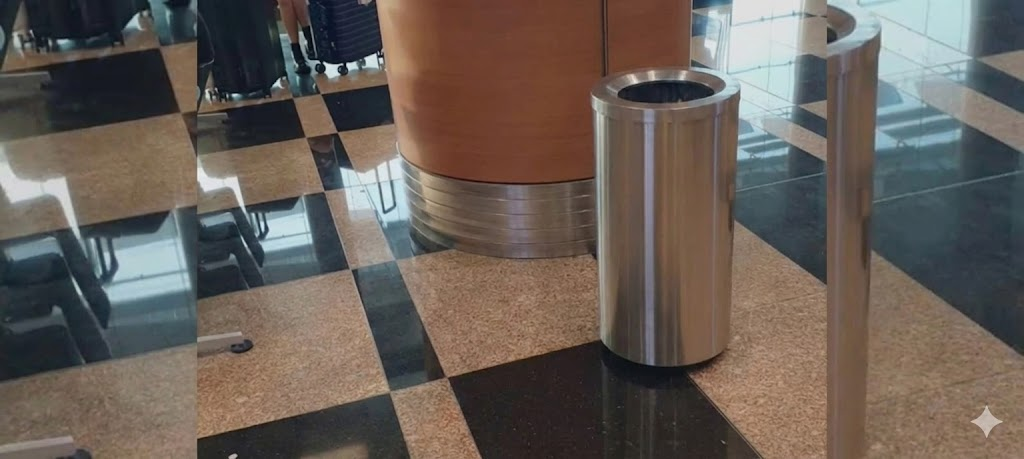bin_empty: (592, 66, 739, 366)
